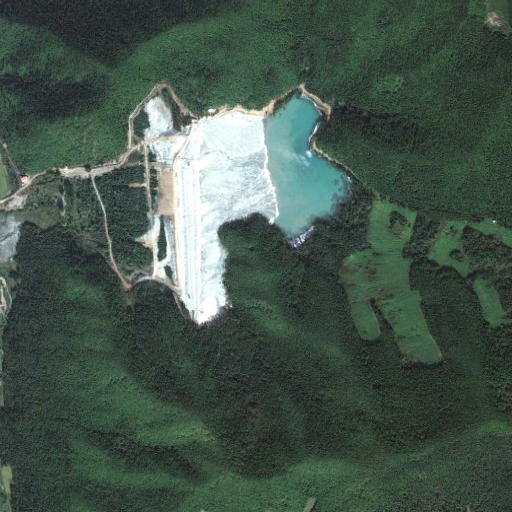tp: (151, 85, 350, 327)
